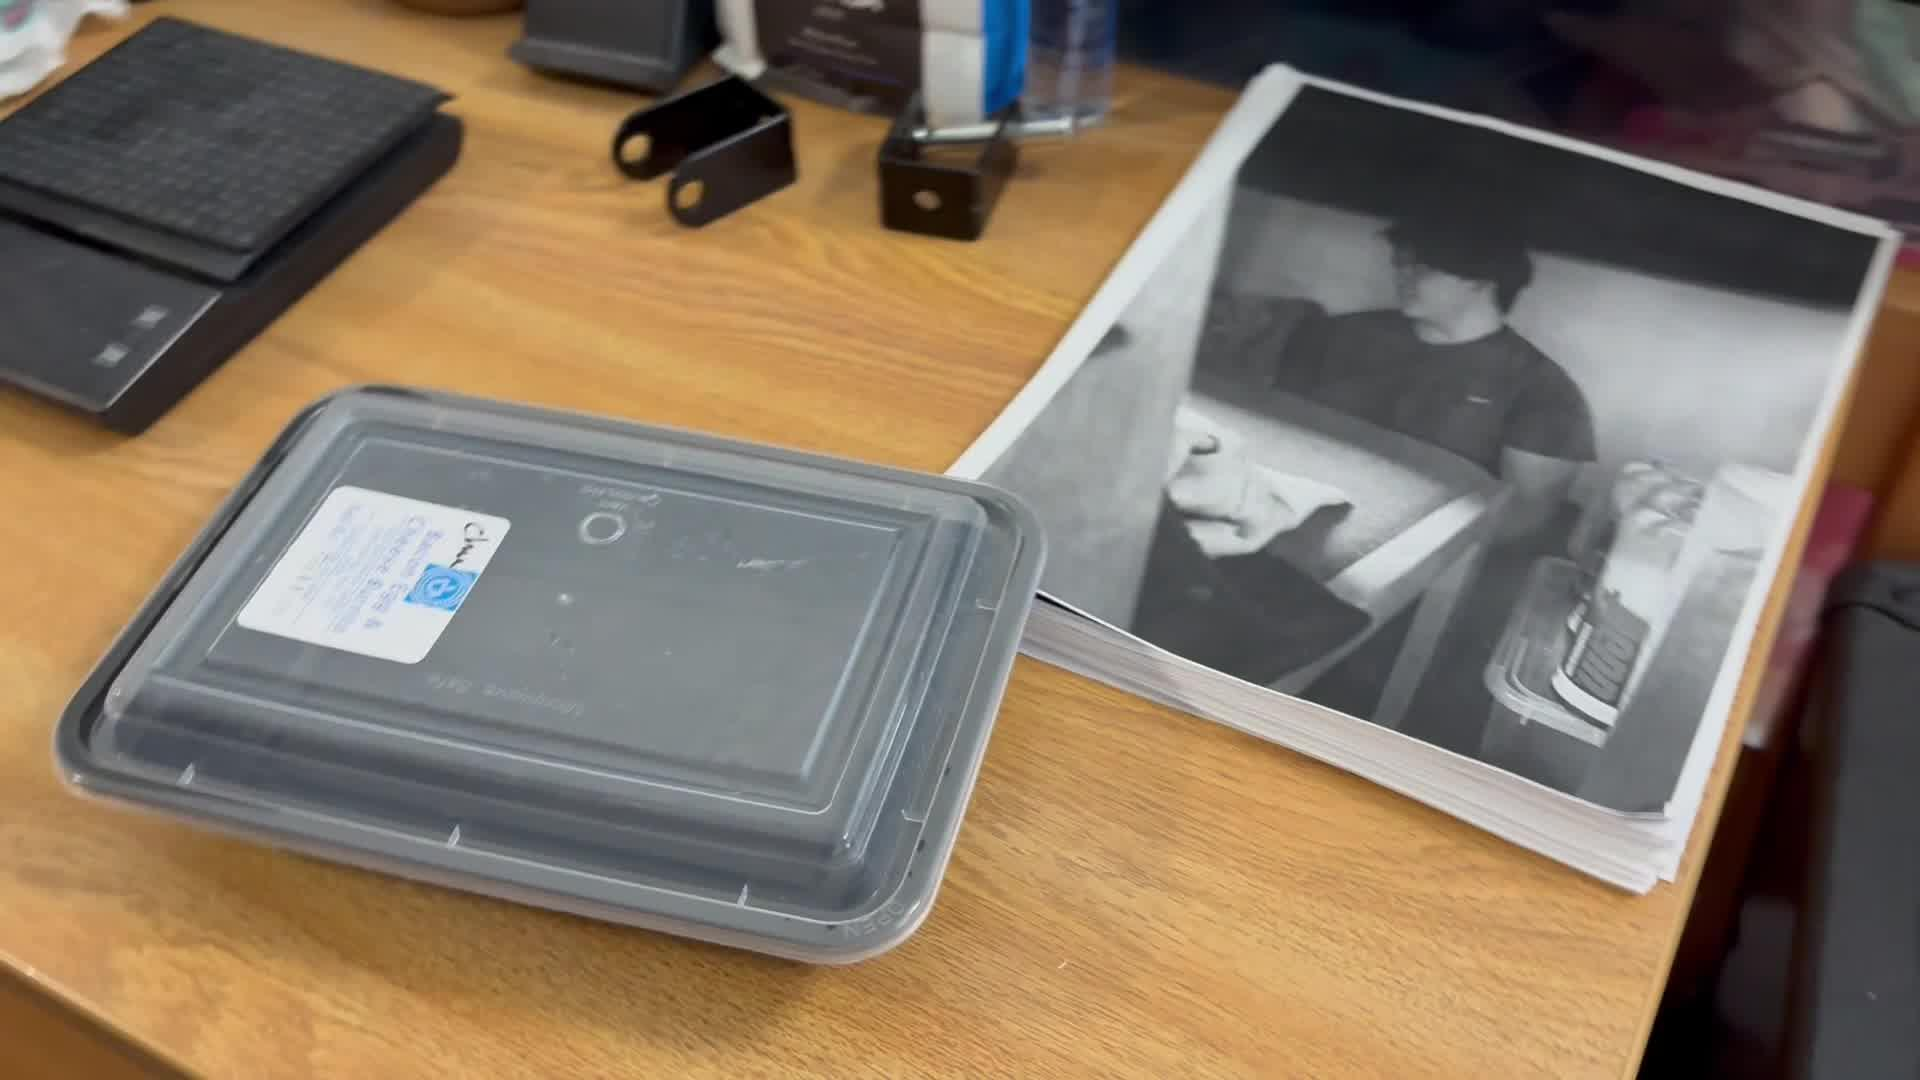lp_cup_lids: (46, 372, 1055, 975)
